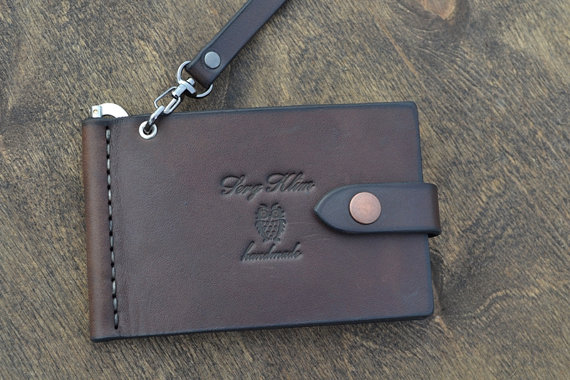monedero: (80, 100, 444, 345)
